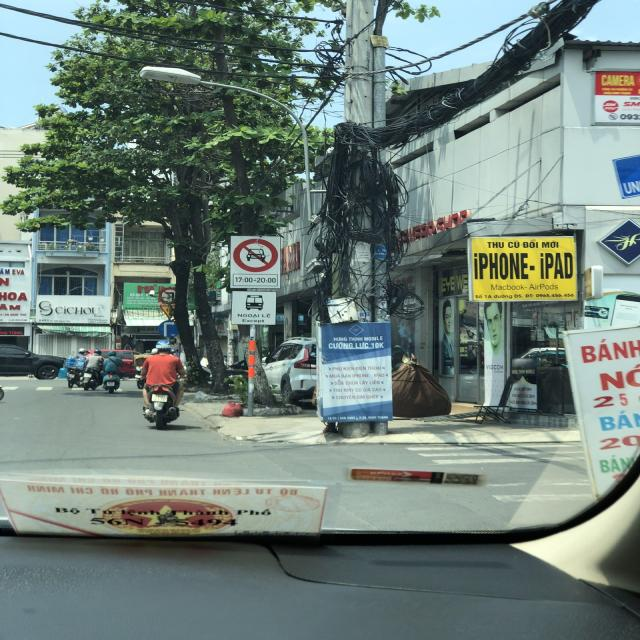Bien bao cam xe oto: (231, 236, 280, 274)
